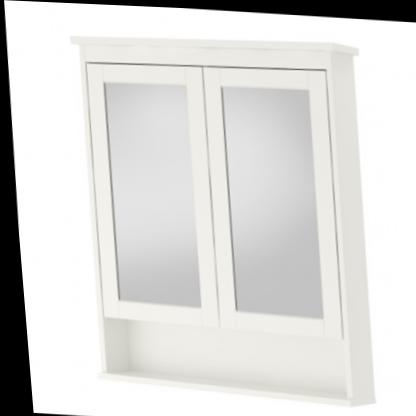Cabinet: (56, 25, 383, 409)
